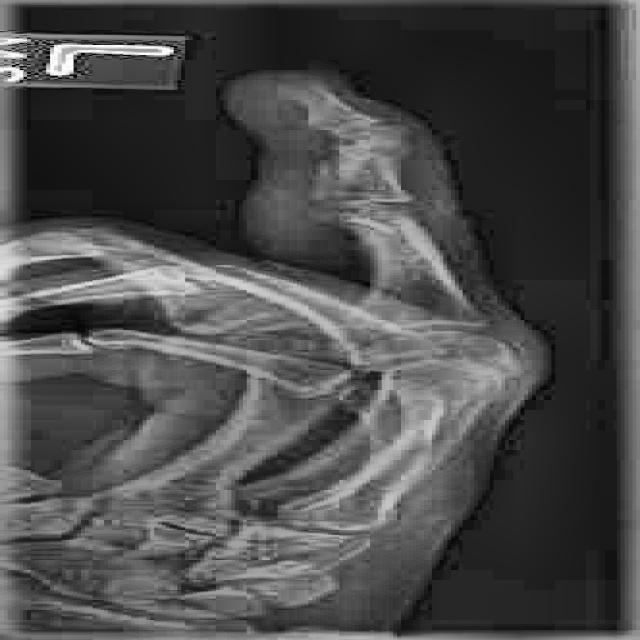fingers positive: (271, 127, 424, 214)
